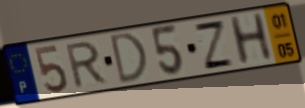5: (149, 23, 186, 79), (32, 42, 70, 96)
D: (109, 31, 151, 87)
H: (226, 11, 276, 69)
R: (64, 39, 110, 91)
Z: (191, 19, 237, 71)
